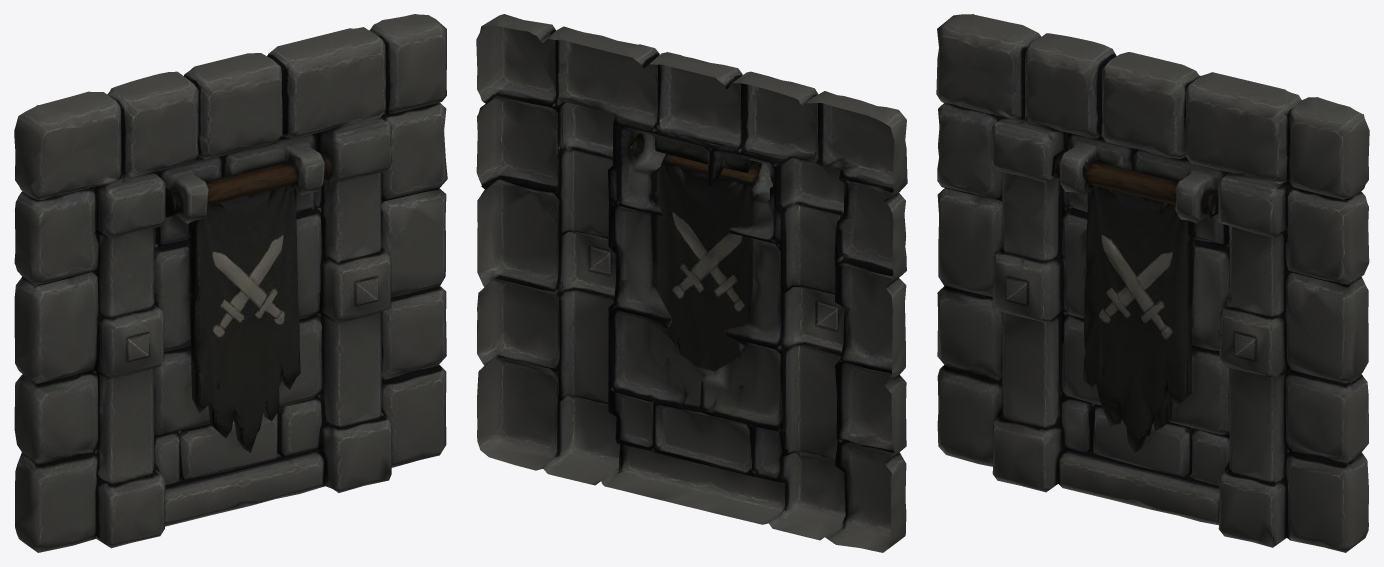
Rendered from Wall_Banner.fbx.
3 views of the same model, side by side, from view 1: azimuth 30°, elevation 25°; view 2: azimuth 150°, elevation 25°; view 3: azimuth 330°, elevation 25° (orthographic).
Visible parts, largest first — view 1: Wall_Banner; view 2: Wall_Banner; view 3: Wall_Banner.
Boxes of the visible parts, x1=… form: Wall_Banner: x1=14, y1=14, x2=447, y2=552; Wall_Banner: x1=476, y1=14, x2=907, y2=552; Wall_Banner: x1=936, y1=14, x2=1369, y2=552.
Size of the model in its own units: 305 by 305 by 51.1.
